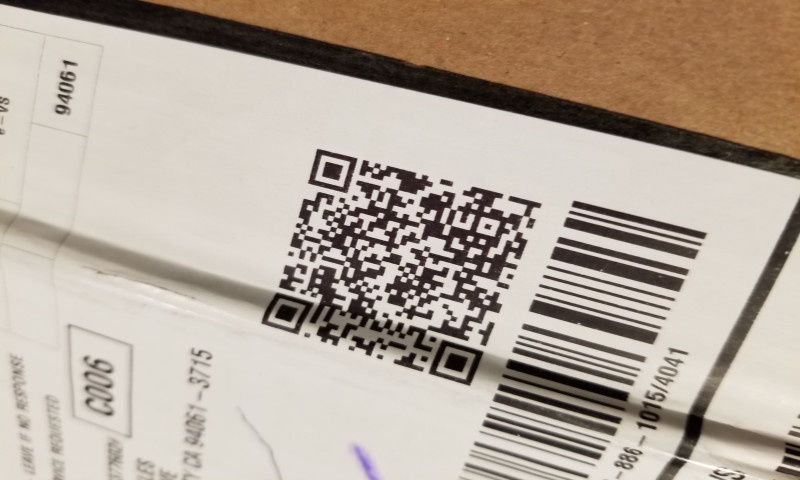QR_CODE: (246, 126, 550, 398)
